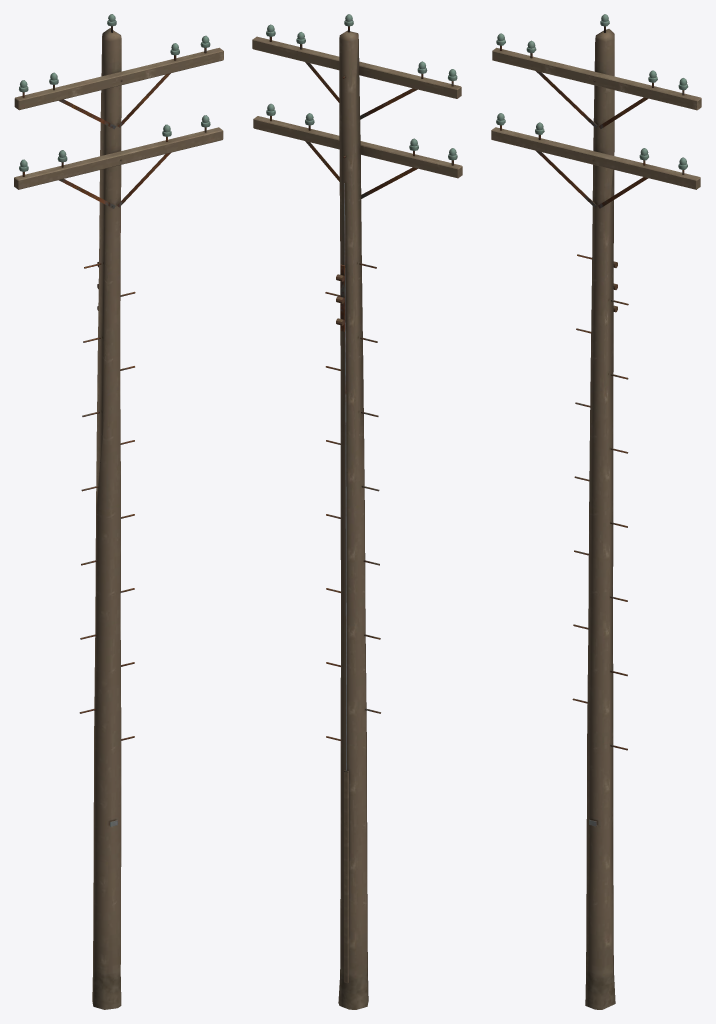
The model's file is utility_pole-low.glb.
The picture shows the model from 3 angles, left to right: view 1: azimuth 30°, elevation 25°; view 2: azimuth 150°, elevation 25°; view 3: azimuth 330°, elevation 25°; orthographic projection.
Visible parts, largest first — view 1: utility_pole; view 2: utility_pole; view 3: utility_pole.
Boxes of the visible parts, bbox=[...] form: utility_pole: bbox=[14, 14, 223, 1009]; utility_pole: bbox=[252, 14, 462, 1009]; utility_pole: bbox=[491, 14, 701, 1009].
Size of the model in its own units: 2.45 by 11.21 by 0.4433.
4 materials, 4 textured.
